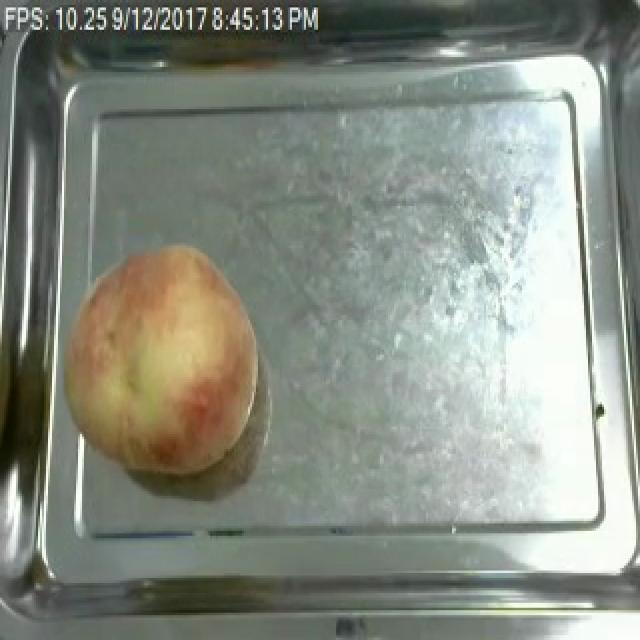Fruit: (44, 238, 268, 484)
